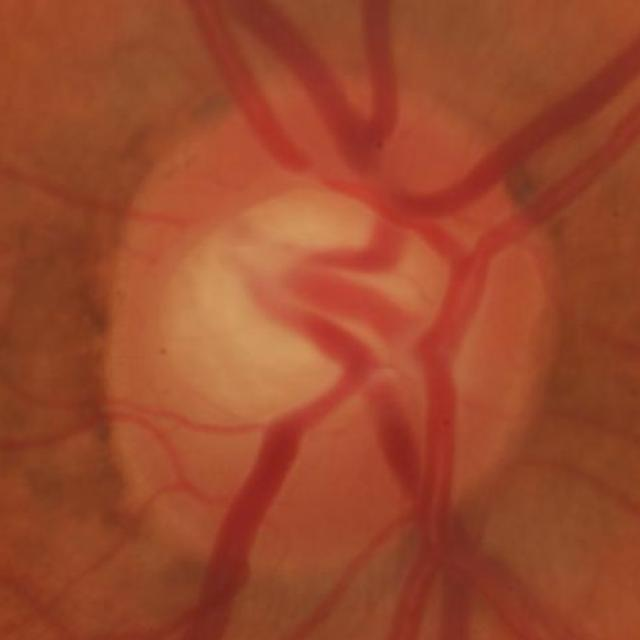OC: (176, 198, 448, 434)
OD: (102, 89, 556, 574)
